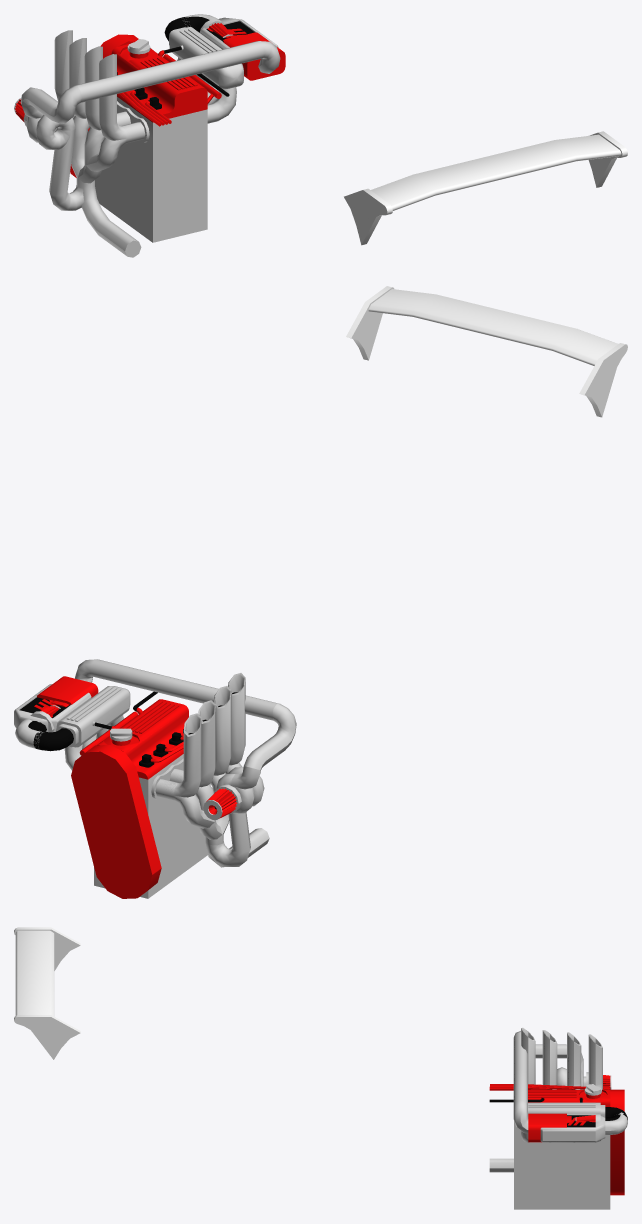
Rendered from SUZUKI JIMNY 1998 MODS (2X-FACES).fbx.
The picture shows the model from 3 angles, top to bottom: view 1: azimuth 30°, elevation 25°; view 2: azimuth 150°, elevation 25°; view 3: azimuth 270°, elevation 25°; orthographic projection. The views are drawn at different scales.
Visible parts, largest first — view 1: BLOCK, SPOILER, EXHAUST LVL3, EXHAUST LVL1, EXHAUST LVL2, INTAKE LVL1, INTAKE LVL3, INTAKE LVL2; view 2: BLOCK, SPOILER, EXHAUST LVL3, EXHAUST LVL2, INTAKE LVL1, INTAKE LVL3, EXHAUST LVL1; view 3: BLOCK, SPOILER, EXHAUST LVL2, INTAKE LVL3, INTAKE LVL1, EXHAUST LVL3.
Part boxes in pixels (x1,y1,x2,y2): BLOCK: [70, 34, 229, 242]; SPOILER: [344, 131, 627, 245]; EXHAUST LVL3: [14, 61, 180, 210]; EXHAUST LVL1: [71, 101, 149, 257]; EXHAUST LVL2: [54, 30, 149, 142]; INTAKE LVL1: [158, 16, 285, 123]; INTAKE LVL3: [172, 14, 280, 78]; INTAKE LVL2: [197, 19, 232, 37]; BLOCK: [71, 691, 210, 898]; SPOILER: [346, 286, 627, 417]; EXHAUST LVL3: [174, 680, 296, 866]; EXHAUST LVL2: [152, 673, 245, 799]; INTAKE LVL1: [28, 676, 137, 770]; INTAKE LVL3: [14, 659, 181, 748]; EXHAUST LVL1: [151, 758, 269, 867]; BLOCK: [489, 1084, 624, 1209]; SPOILER: [14, 927, 80, 1059]; EXHAUST LVL2: [521, 1027, 602, 1089]; INTAKE LVL3: [513, 1069, 627, 1142]; INTAKE LVL1: [518, 1097, 627, 1142]; EXHAUST LVL3: [513, 1031, 611, 1089].
Size of the model in its own units: 440 by 527 by 1274.
